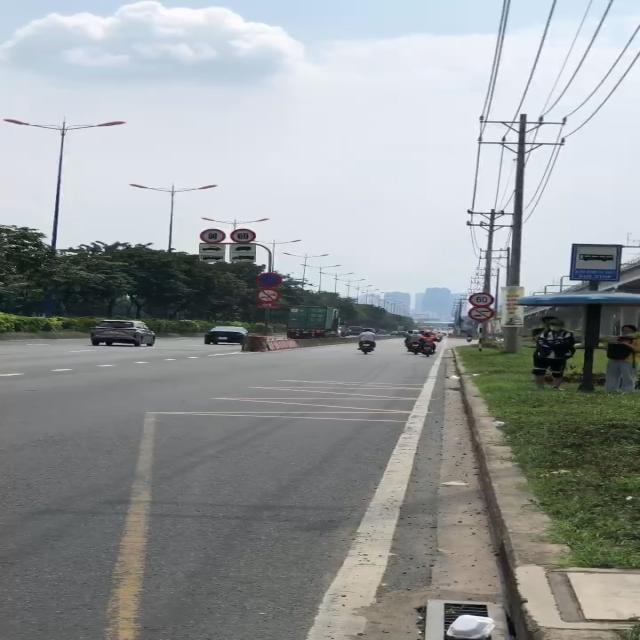Bien bao toc do toi da cho phep: (469, 290, 497, 306)
